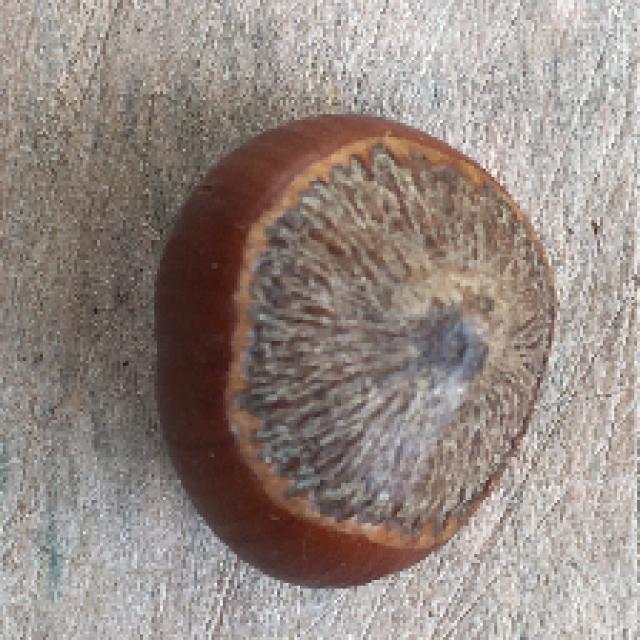qualityHazelnut: (154, 106, 556, 596)
